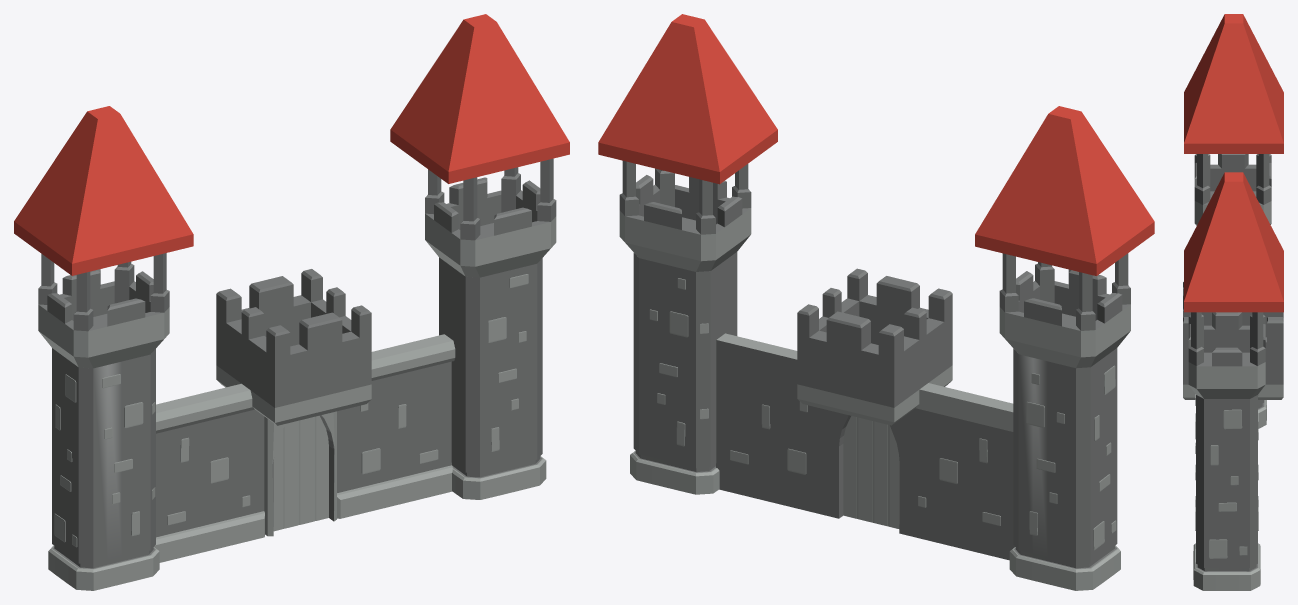
The model's file is Wall3.fbx.
3 renders of one model, left to right at view 1: azimuth 30°, elevation 25°; view 2: azimuth 150°, elevation 25°; view 3: azimuth 270°, elevation 25°, orthographic. The views are drawn at different scales.
Visible parts, largest first — view 1: Wall3; view 2: Wall3; view 3: Wall3.
Part boxes in pixels (left/top/right/bottom): Wall3: left=14, top=14, right=569, bottom=590; Wall3: left=598, top=14, right=1154, bottom=590; Wall3: left=1183, top=14, right=1283, bottom=590.
Size of the model in its own units: 1665 by 1461 by 339.
